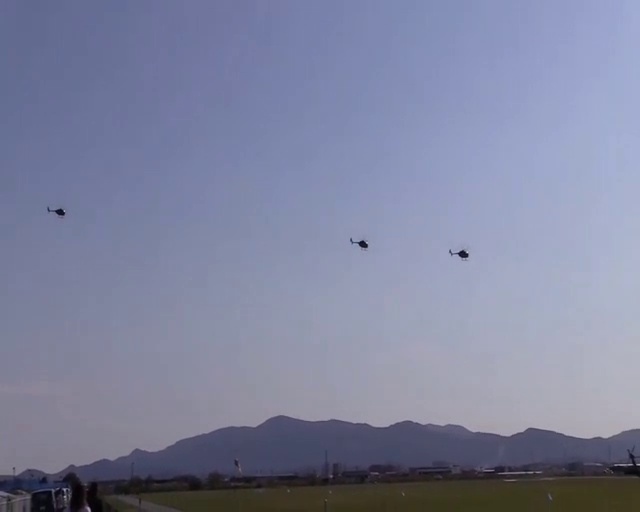HELICOPTER: (448, 247, 469, 260)
